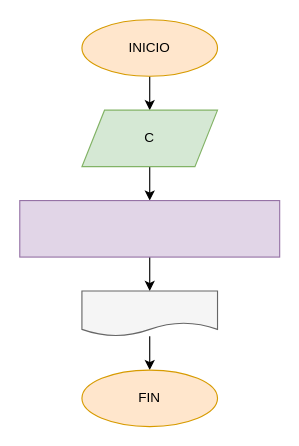
The diagram is 299 pixels wide and 446 high, and some of its shapes have lost their labels. Each missing label, with the centre of its shape:
"F = C * 1.8 + 32 K = C + 273.15" goes at point (149, 228).
"F.K" goes at point (149, 313).
